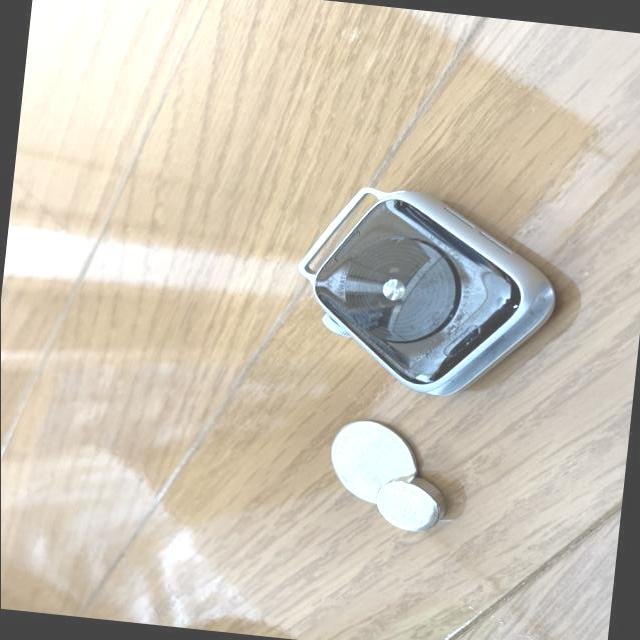COIN: (328, 415, 422, 507), (376, 472, 448, 533)
